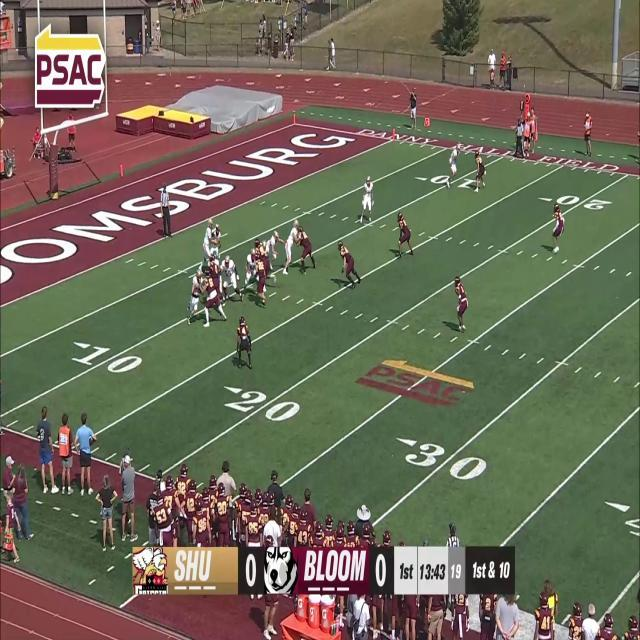football: (214, 237, 219, 245)
